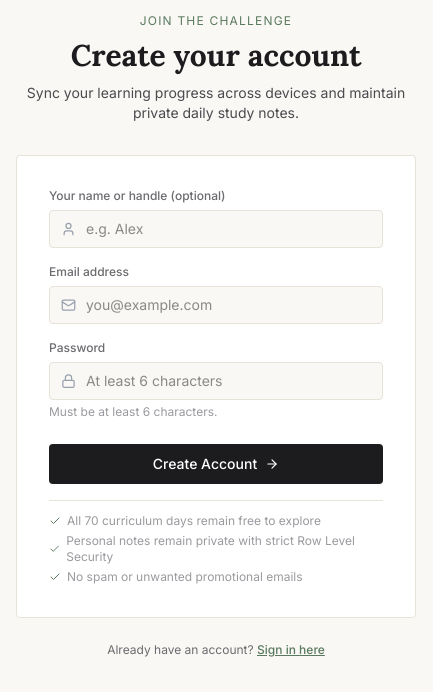
Test case: Authentication Pages & Flows › SignUpPage › enforces minimum 6 character password
Type "newuser@example.com" into the field with placeholder "you@example.com". click: (216, 304)
box: [49,286,383,324]
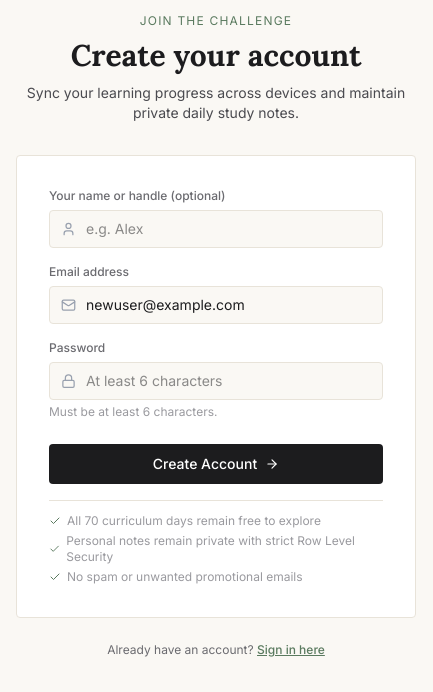
Type "123" into the password field with placeholder "At least 6 characters". click: (216, 380)
box: [49,362,383,400]
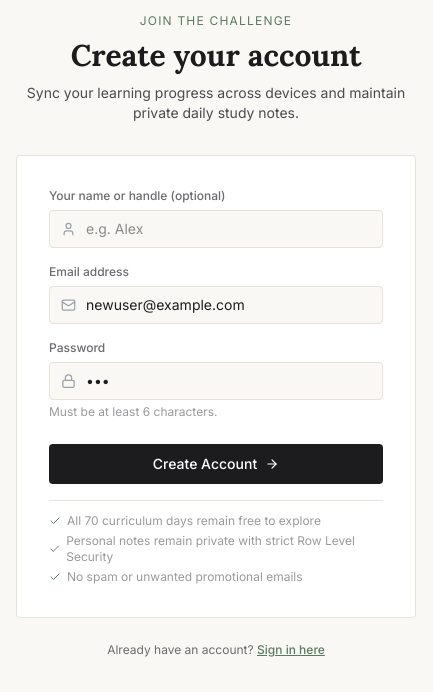
Click the button "Create Account". click: (216, 464)
box: [49,444,383,484]
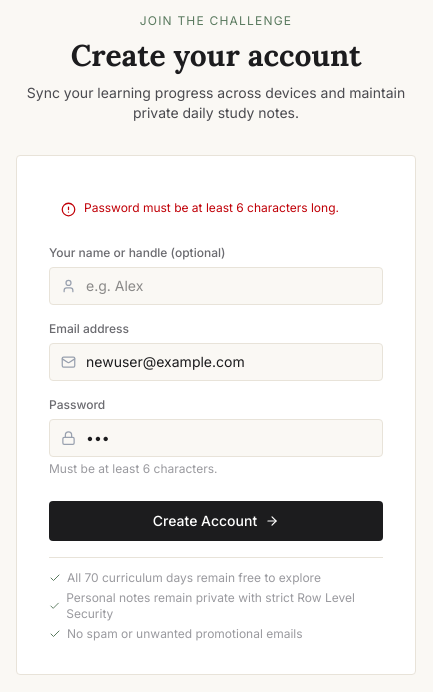
Check: the text "Password must be at least 6 characters long." is shown, box [84,200,339,216]
